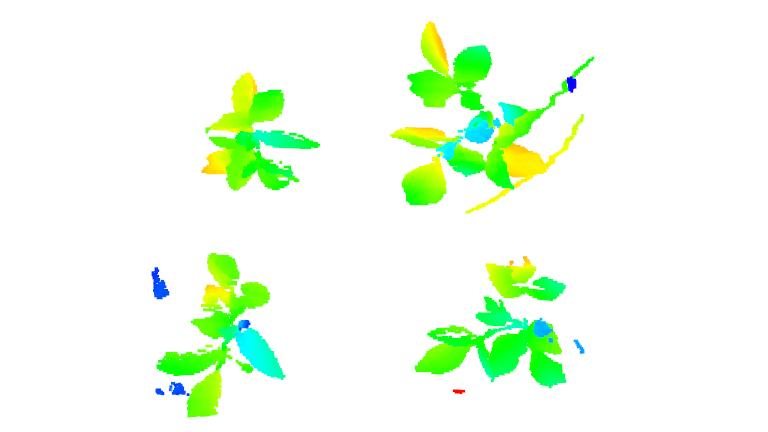mungbean: (392, 18, 551, 209), (155, 252, 290, 422), (407, 259, 569, 389), (199, 72, 326, 193)
